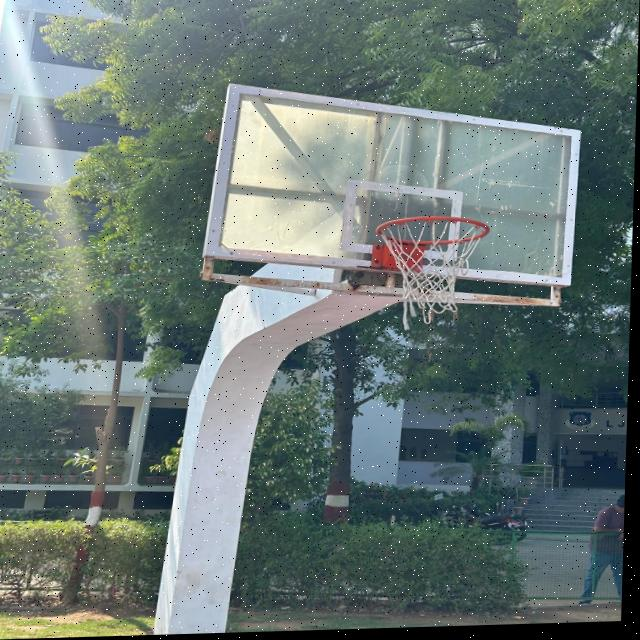hoop: (361, 208, 513, 344)
